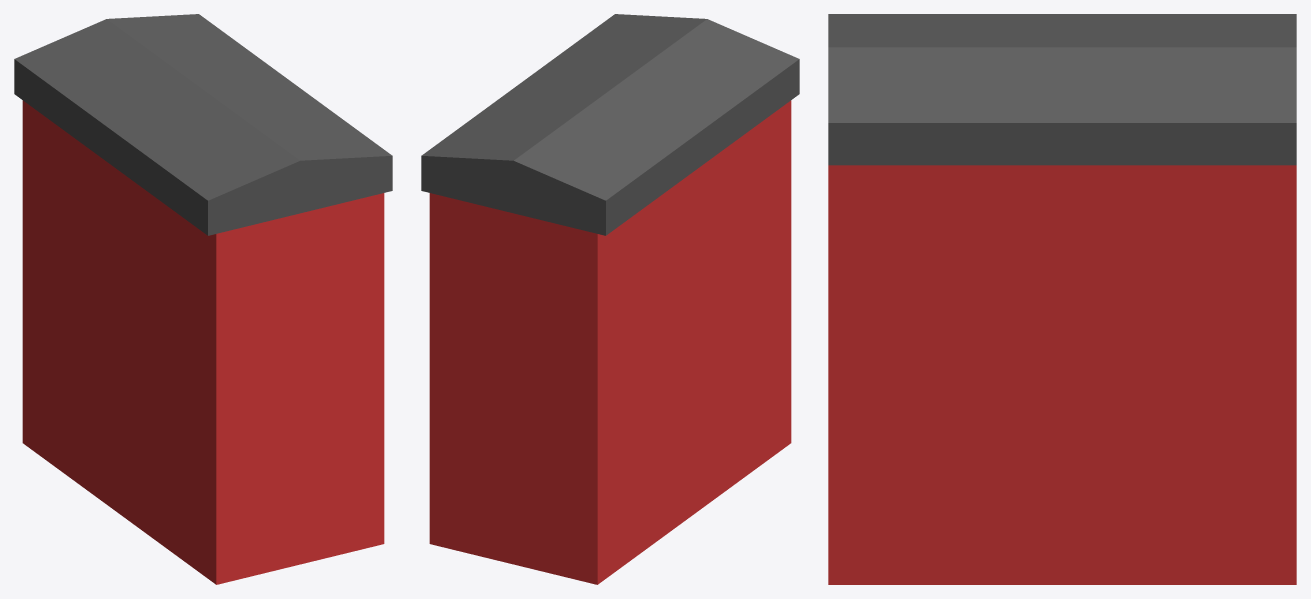
The model's file is Ledge.fbx.
3 renders of one model, left to right at view 1: azimuth 30°, elevation 25°; view 2: azimuth 150°, elevation 25°; view 3: azimuth 270°, elevation 25°, orthographic. The views are drawn at different scales.
Parts seen in each view (by area): view 1: Ledge; view 2: Ledge; view 3: Ledge.
Part boxes in pixels (<box>): Ledge: <box>14,14,392,584</box>; Ledge: <box>421,14,799,584</box>; Ledge: <box>828,14,1296,584</box>.
Bounding box in the file's own units: 55 × 115 × 100.
